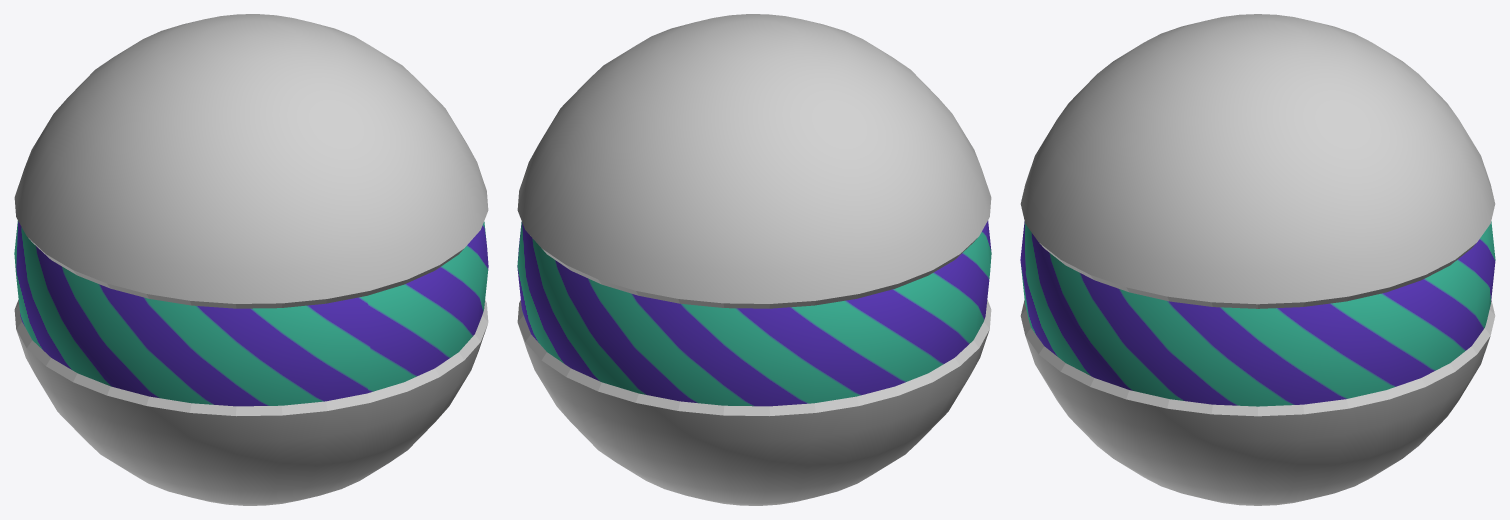
File: GREEN_Sphere_move.FBX
The picture shows the model from 3 angles, left to right: view 1: azimuth 30°, elevation 25°; view 2: azimuth 150°, elevation 25°; view 3: azimuth 270°, elevation 25°; orthographic projection.
Visible parts, largest first — view 1: GREEN_Sphere_move, RotateMesh; view 2: GREEN_Sphere_move, RotateMesh; view 3: GREEN_Sphere_move, RotateMesh.
Boxes of the visible parts, x1,y1,x2,y2 form: GREEN_Sphere_move: (14, 14, 488, 505); RotateMesh: (14, 220, 488, 406); GREEN_Sphere_move: (517, 14, 991, 505); RotateMesh: (517, 220, 991, 406); GREEN_Sphere_move: (1020, 14, 1495, 505); RotateMesh: (1020, 221, 1495, 406).
Bounding box in the file's own units: 62.26 × 64.54 × 62.26.
